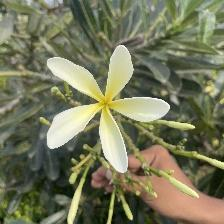champaka: (44, 46, 174, 178)
